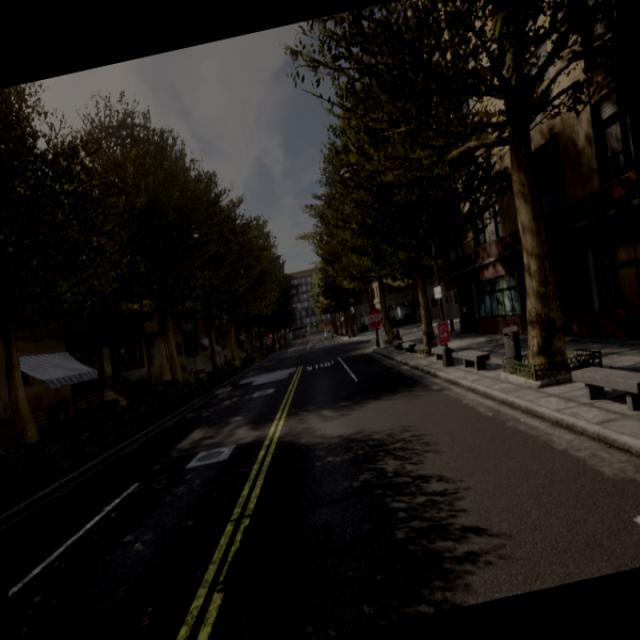stop sign: (364, 305, 386, 331)
